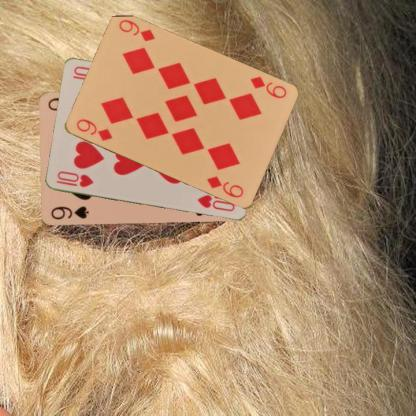10h: (53, 169, 94, 189)
9d: (73, 116, 114, 143), (247, 73, 288, 100)
9s: (48, 204, 90, 221)
